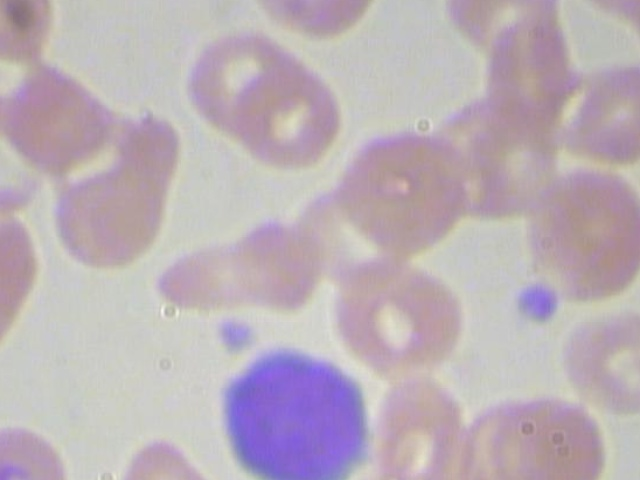Platelets: (502, 276, 570, 327), (209, 310, 260, 357)
RBC: (330, 258, 479, 378), (231, 63, 352, 174), (180, 27, 301, 137)
WBC: (218, 339, 381, 480)
